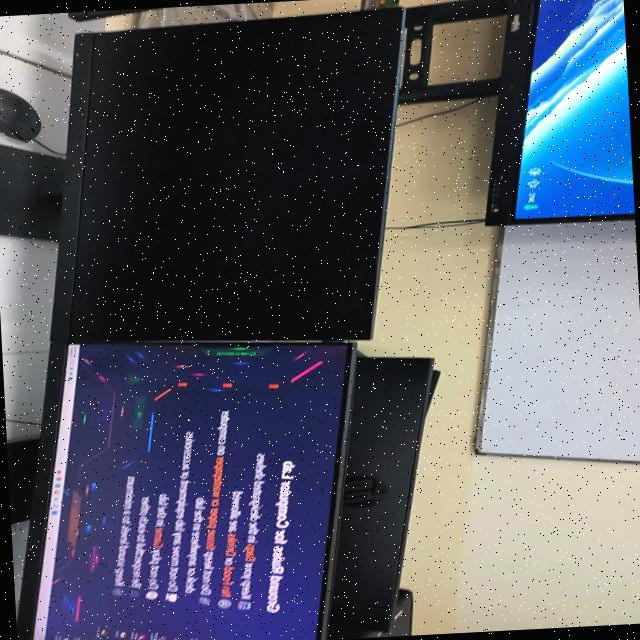Cpu: (366, 589, 412, 638)
Digital board: (485, 0, 635, 225)
Monitor: (51, 9, 403, 346), (32, 344, 354, 640), (327, 356, 439, 640)
Mouse: (0, 89, 40, 142)
